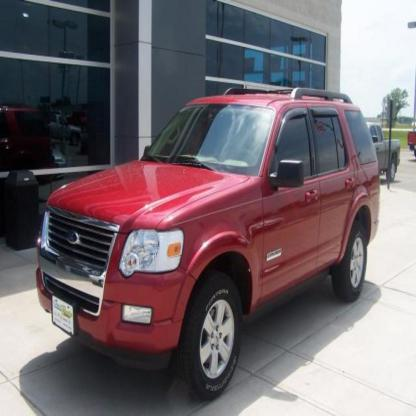Car: (35, 88, 381, 399), (0, 102, 67, 172), (51, 112, 81, 147)
